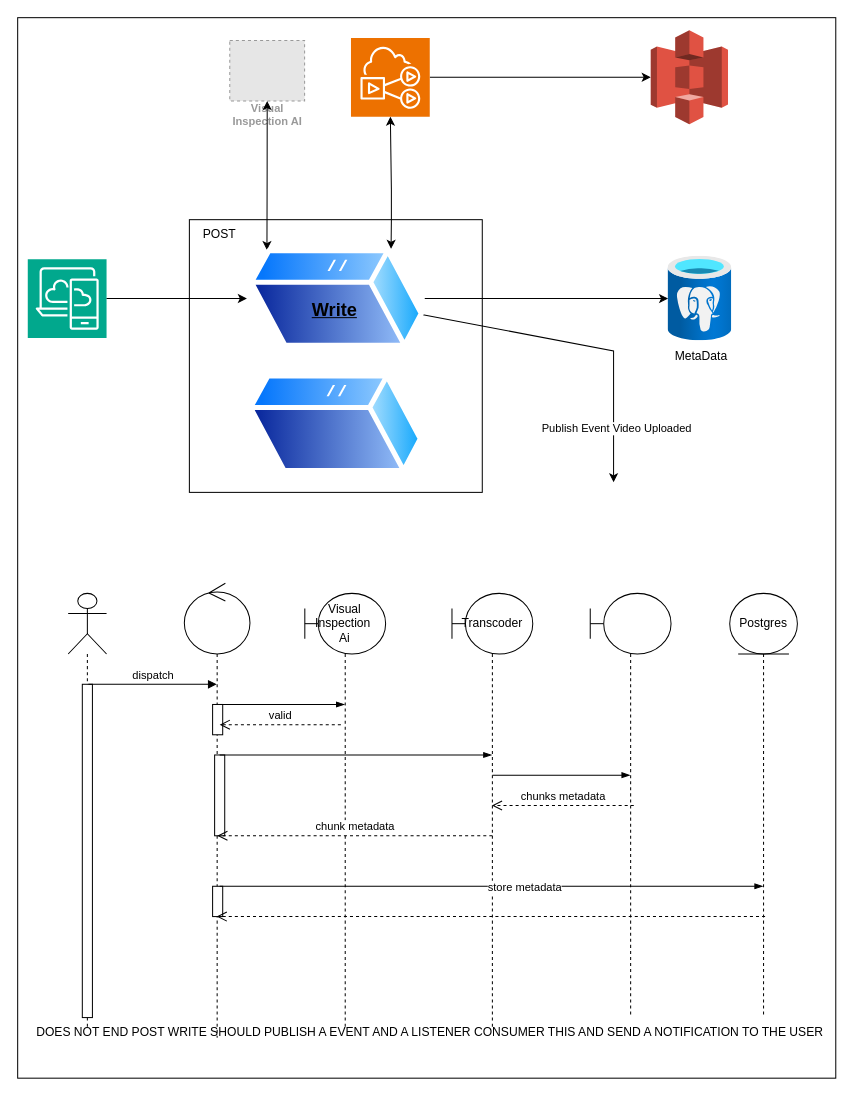
The diagram is 853 pixels wide and 1096 high, and some of its shapes have lost their labels. Grey dashed boxes stand in for pictures. The box of each missing label's shape, as (x1, y1, x2, y2) in pixels:
Aws s3: (589, 592, 671, 1018)
Post Write: (183, 582, 250, 1038)
Read: (246, 373, 423, 473)
